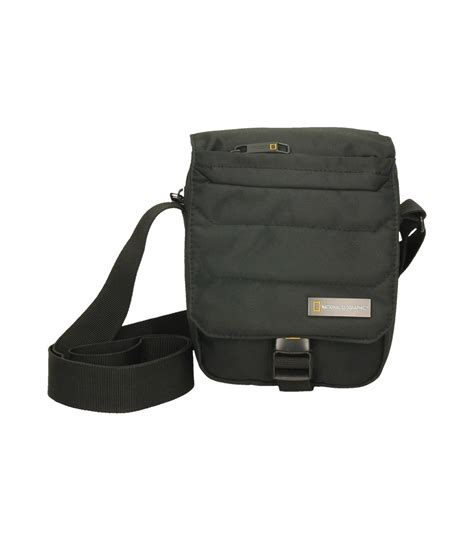nylon: (183, 126, 405, 392)
